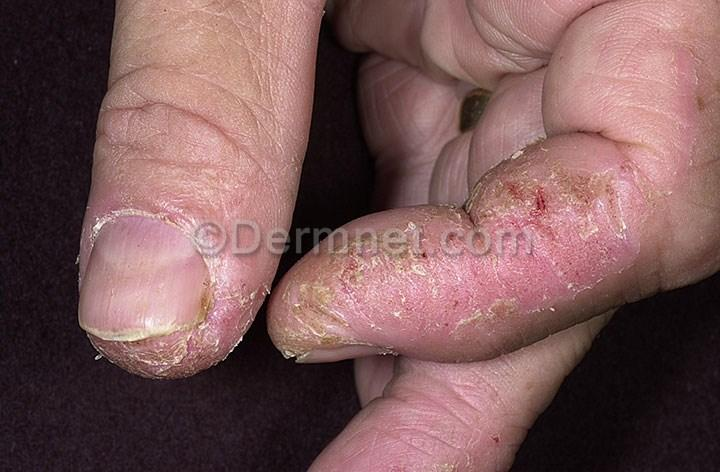Eczema: (528, 163, 613, 247), (465, 254, 527, 342), (392, 199, 467, 269), (319, 238, 391, 310), (510, 250, 589, 314), (397, 269, 472, 334), (592, 158, 650, 242), (473, 181, 537, 254), (326, 294, 400, 343), (270, 283, 328, 332), (589, 236, 640, 286), (677, 73, 720, 126), (219, 270, 253, 323), (200, 317, 238, 357), (113, 340, 162, 367), (164, 339, 200, 372)
